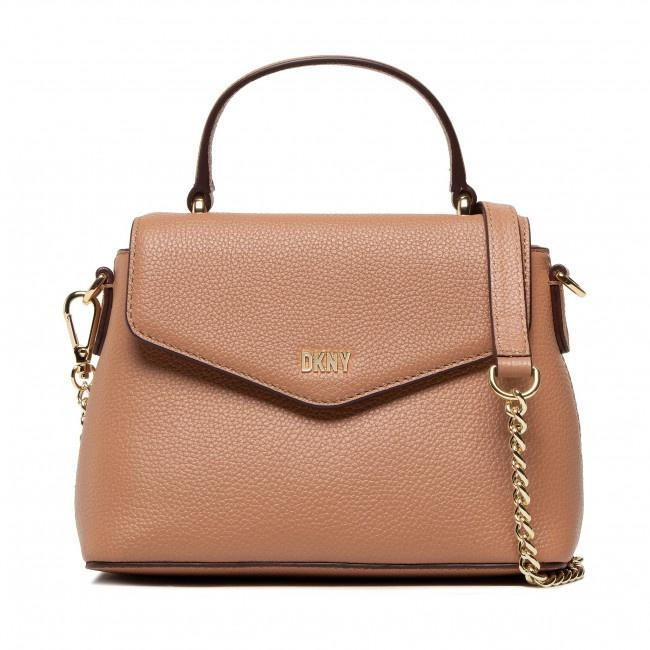DKNY: (301, 351, 350, 373)
